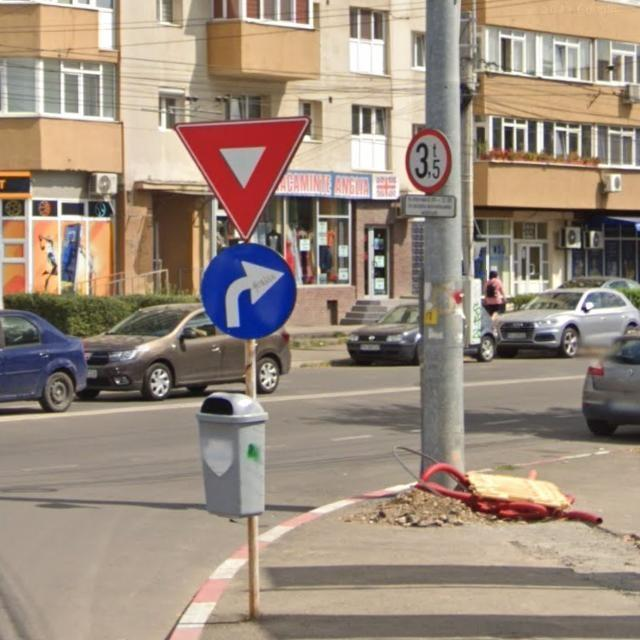prio_give_way: (168, 116, 311, 238)
